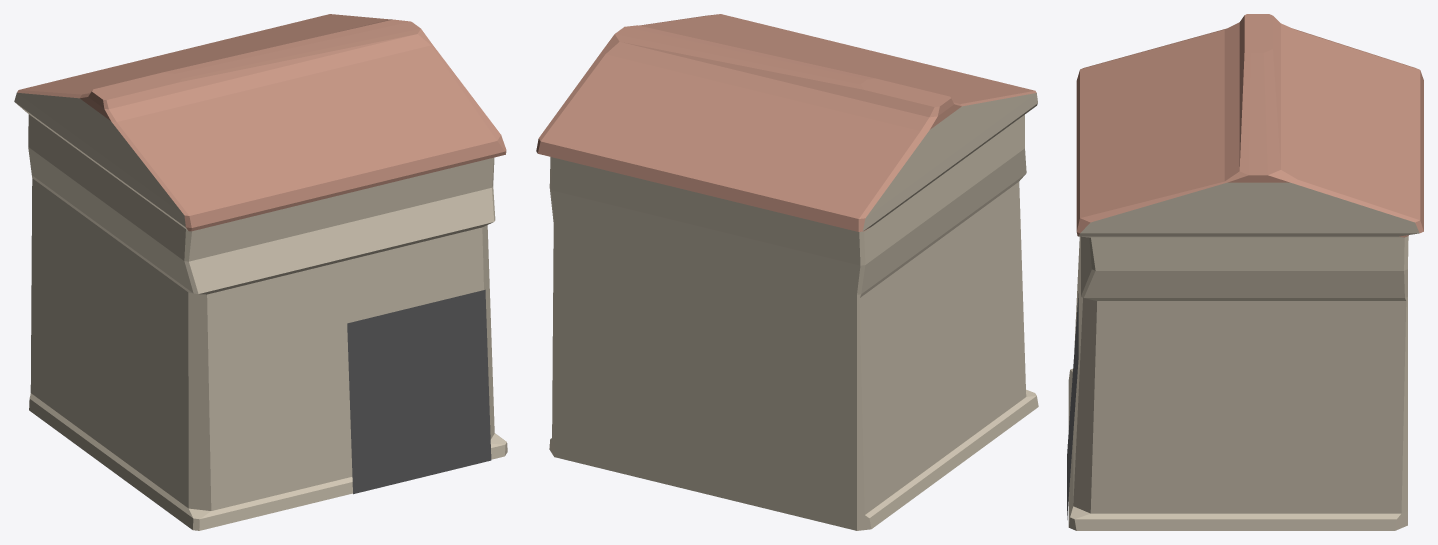
The model's file is loin.glb.
3 views of the same model, side by side, from view 1: azimuth 30°, elevation 25°; view 2: azimuth 150°, elevation 25°; view 3: azimuth 270°, elevation 25° (orthographic). The views are drawn at different scales.
Visible parts, largest first — view 1: loin; view 2: loin; view 3: loin.
Boxes of the visible parts, x1,y1,x2,y2 form: loin: [14, 14, 507, 530]; loin: [536, 14, 1038, 530]; loin: [1067, 14, 1423, 530].
Size of the model in its own units: 0.8499 by 0.9304 by 0.8284.
